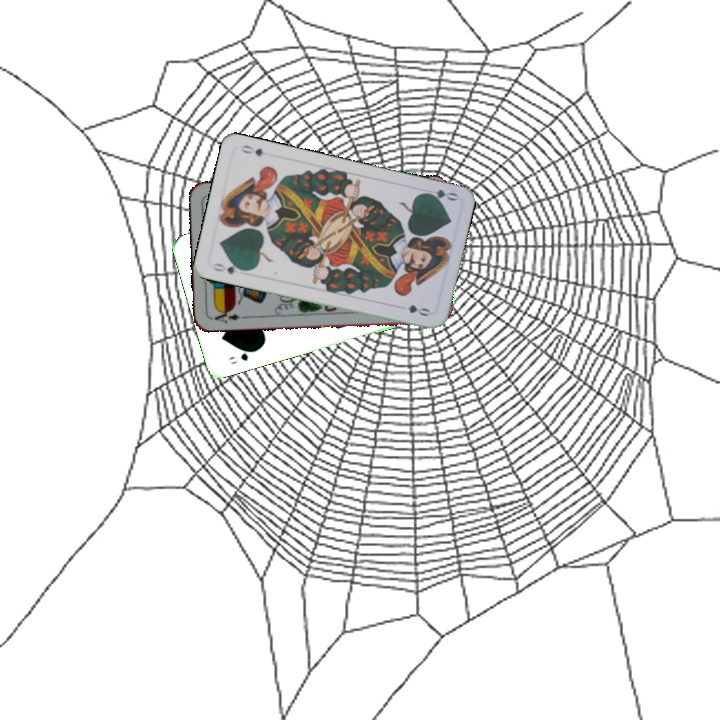EA: (208, 306, 242, 326)
GO: (418, 185, 460, 204), (224, 346, 259, 367), (209, 259, 249, 277)
